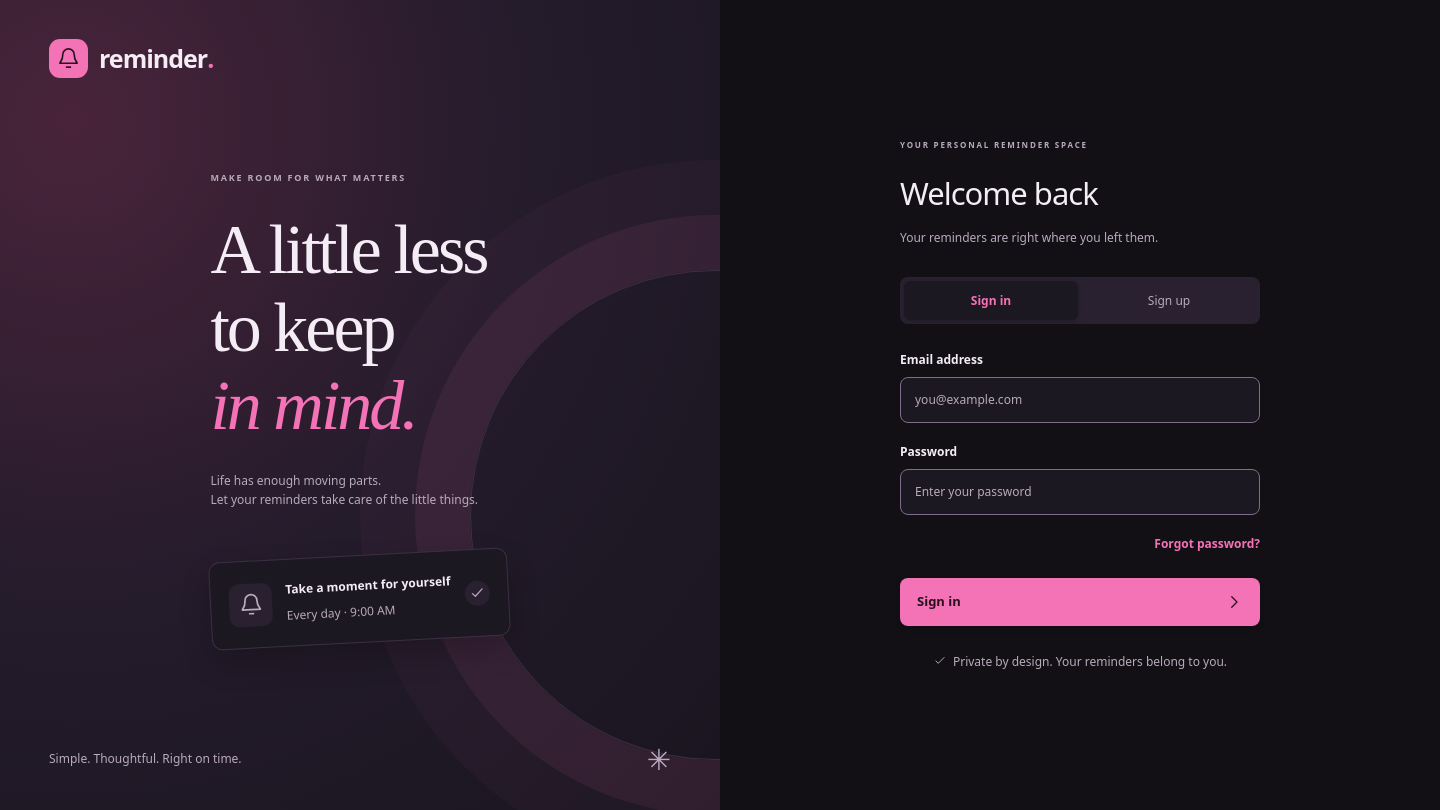
Test: authentication flows › signs in using email and password and reports credential errors
Type "alice@example.com" into the field labelled "Email address" at (1080, 400), box [900, 377, 1260, 423]
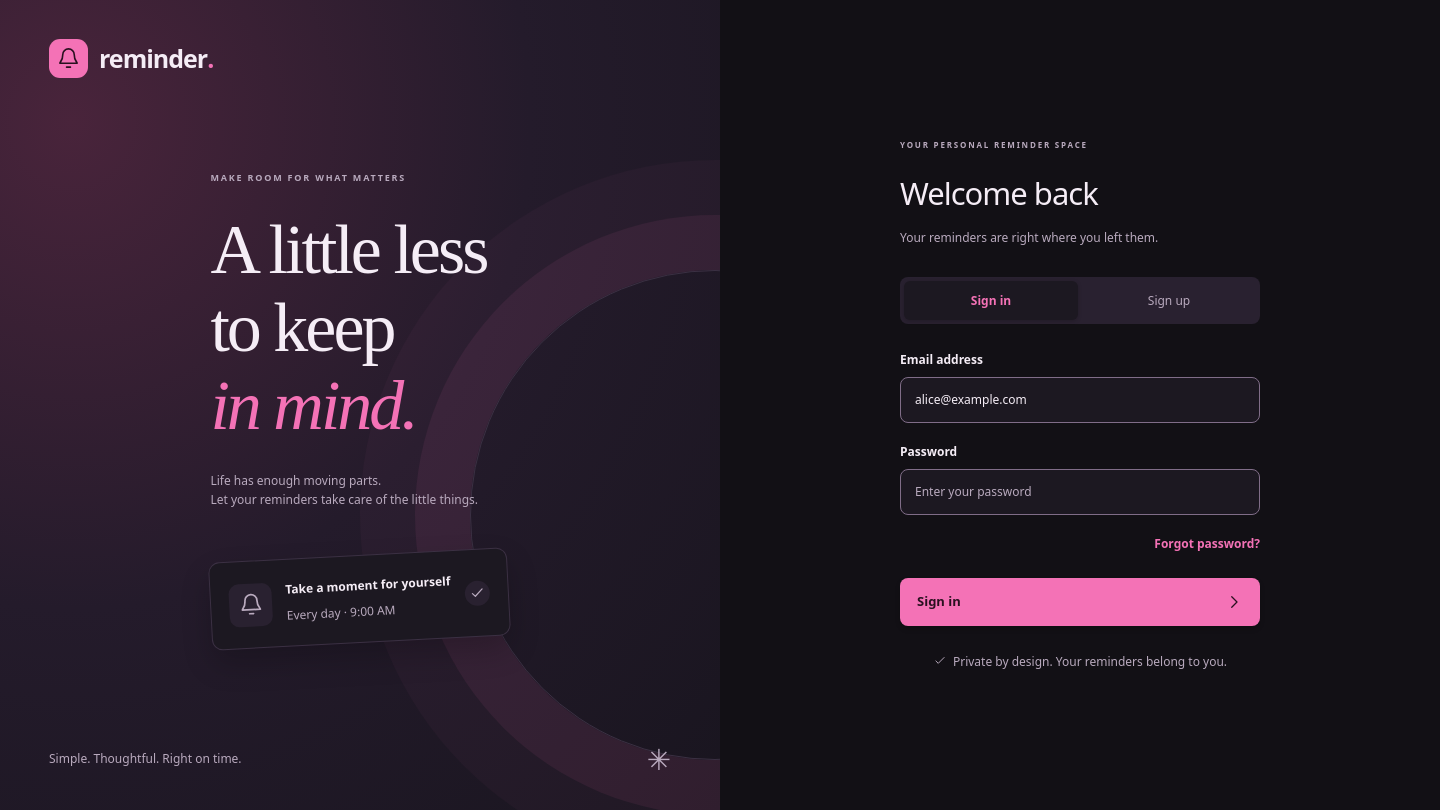
Type "WrongPassword123" into the password field labelled "Password" at (1080, 492), box [900, 469, 1260, 515]
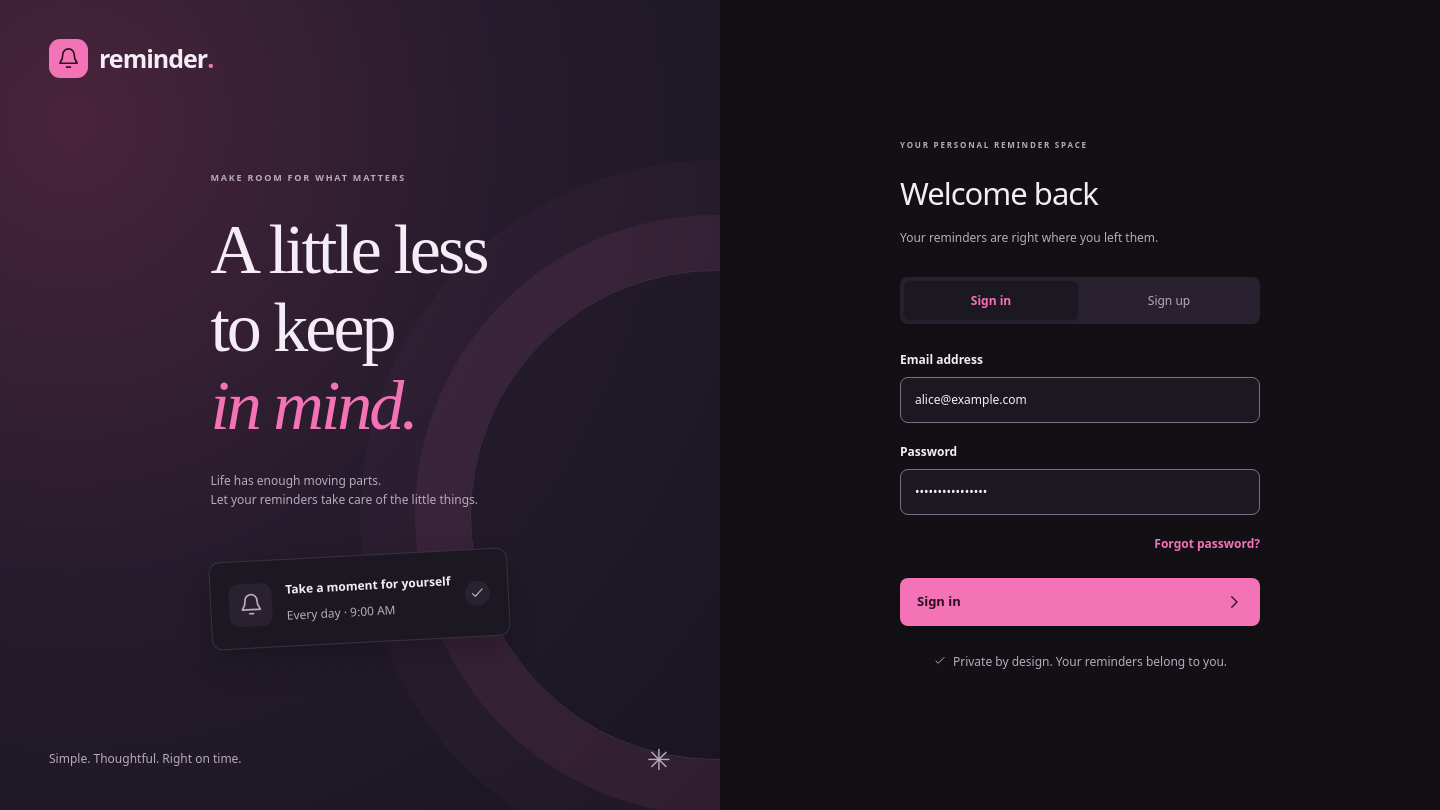
Submit the form labelled "Password", box [900, 351, 1260, 626]
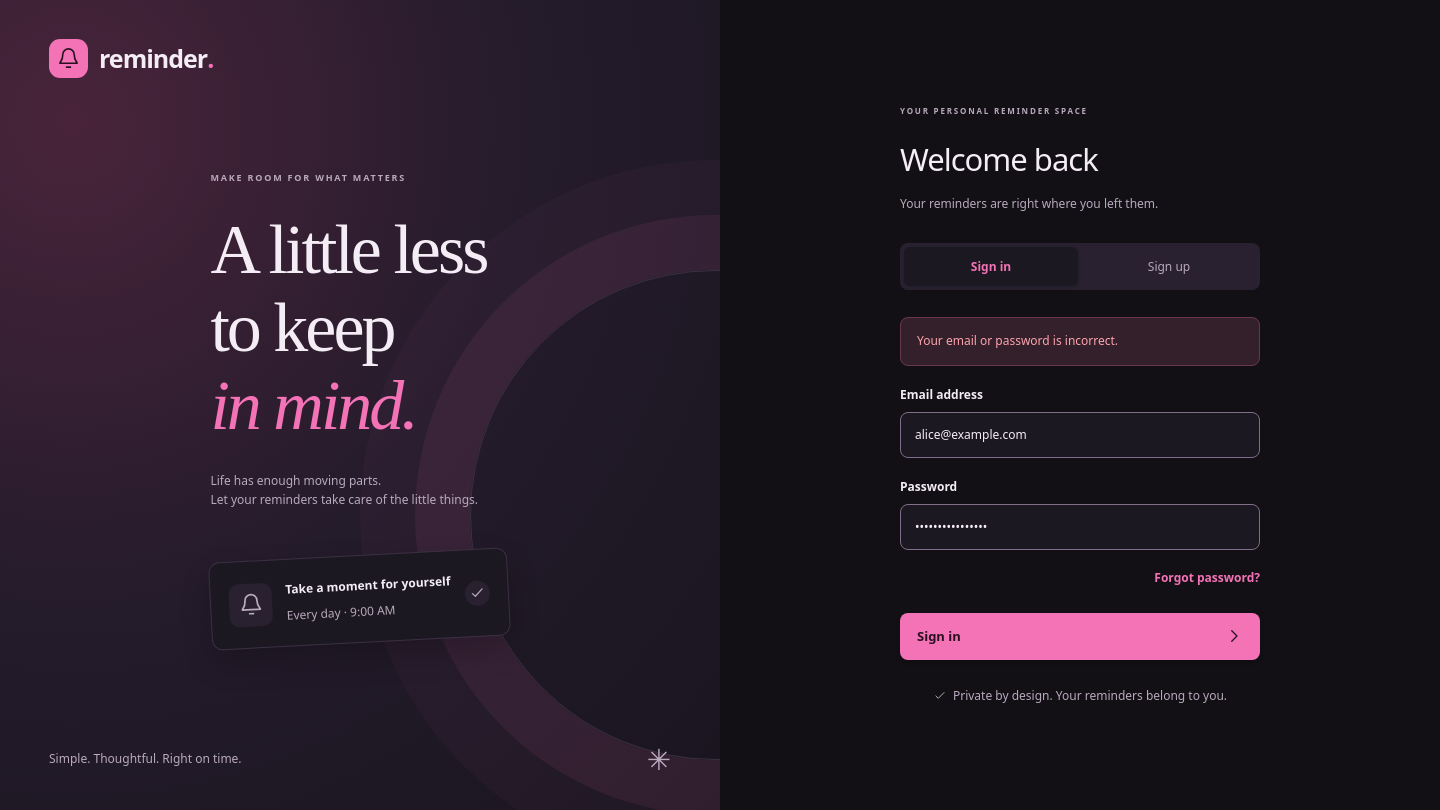
Expected: the message reads "Your email or password is incorrect.", [917, 332, 1118, 349]
